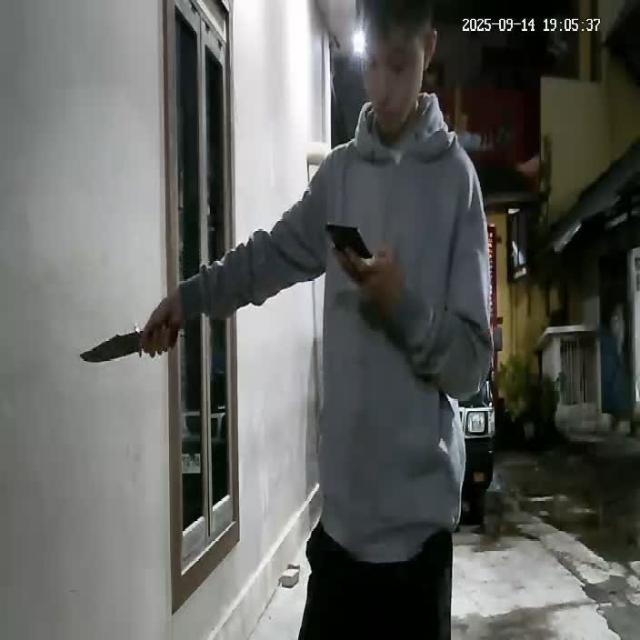senjata_tajam: (78, 324, 148, 366)
